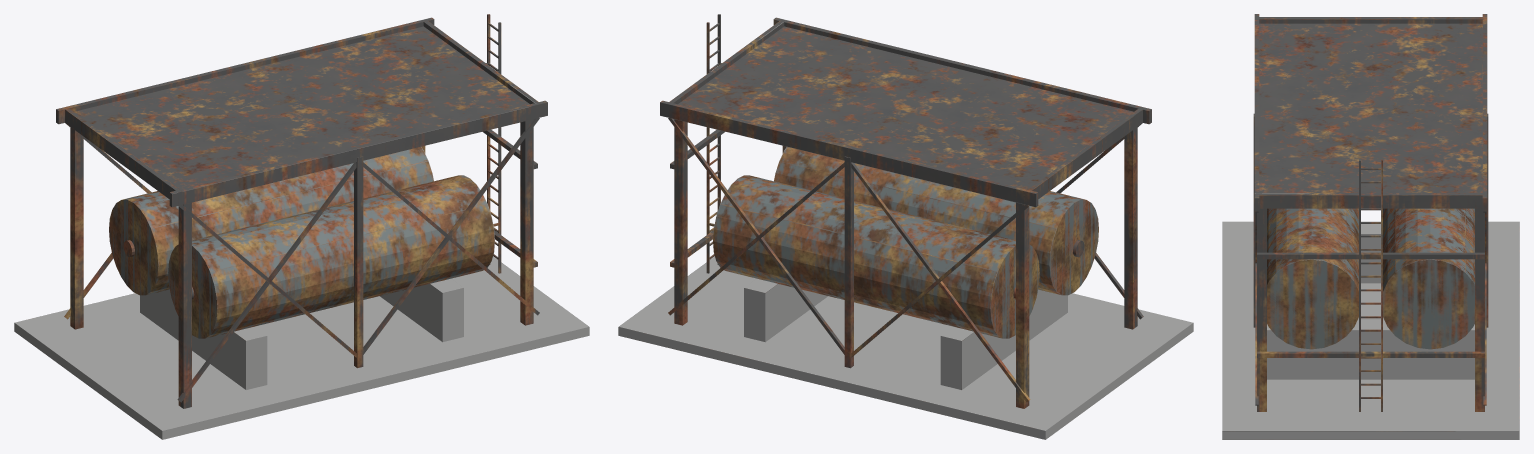
The model's file is gantryTankStation.glb.
3 views of the same model, side by side, from view 1: azimuth 30°, elevation 25°; view 2: azimuth 150°, elevation 25°; view 3: azimuth 270°, elevation 25° (orthographic).
Parts seen in each view (by area): view 1: Gantry_Tank_Station.001; view 2: Gantry_Tank_Station.001; view 3: Gantry_Tank_Station.001.
Boxes of the visible parts, x1,y1,x2,y2 form: Gantry_Tank_Station.001: [14, 14, 589, 439]; Gantry_Tank_Station.001: [618, 14, 1193, 439]; Gantry_Tank_Station.001: [1222, 14, 1519, 439].
Size of the model in its own units: 10 by 6 by 6.
Materials: 1 (1 with a texture image).
